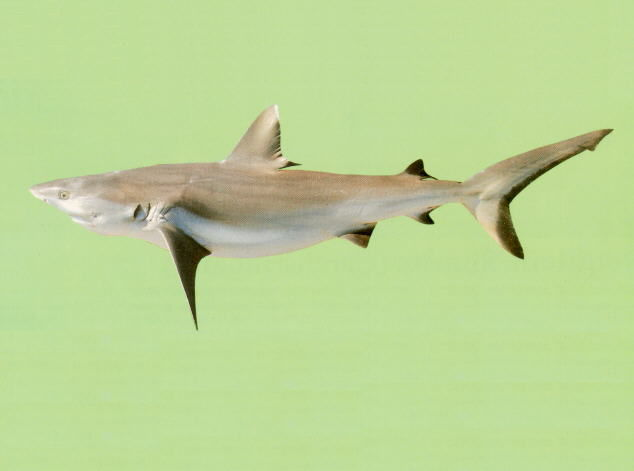fish: (27, 104, 617, 332)
